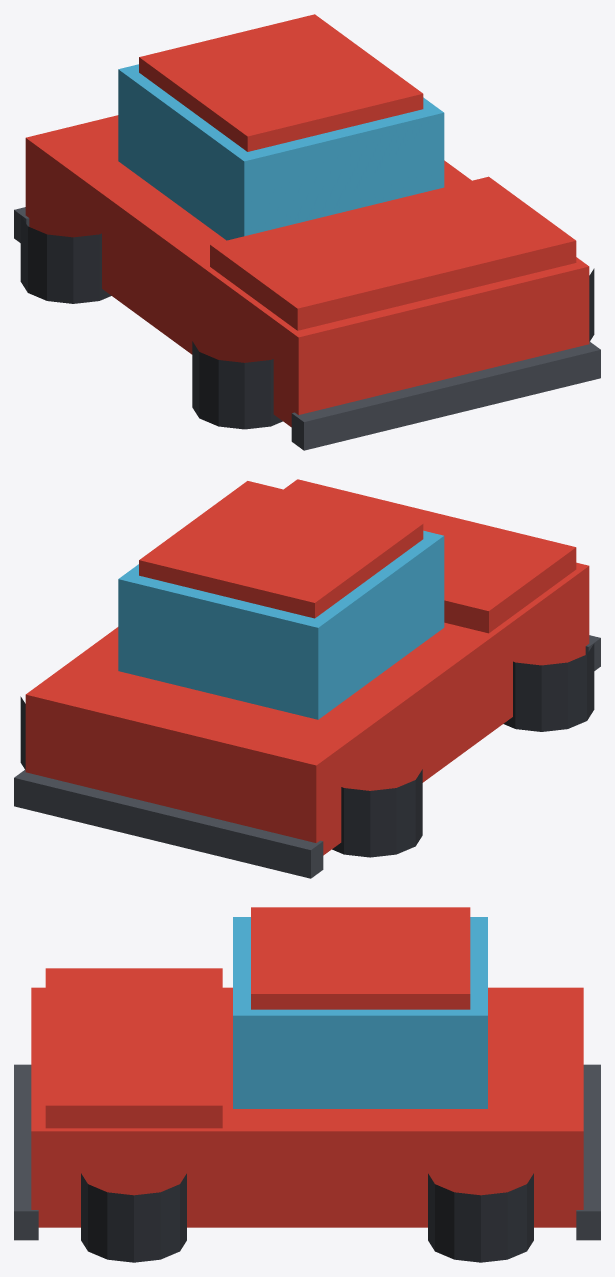
Rendered from car.glb.
The picture shows the model from 3 angles, top to bottom: view 1: azimuth 30°, elevation 25°; view 2: azimuth 150°, elevation 25°; view 3: azimuth 270°, elevation 25°; orthographic projection.
Parts seen in each view (by area): view 1: Body, Hood, Cabin, Roof, Front bumper, Wheel -1 -1, Wheel -1 1; view 2: Body, Cabin, Roof, Hood, Rear bumper, Wheel -1 1, Wheel -1 -1; view 3: Body, Cabin, Hood, Roof, Wheel 1 -1, Wheel 1 1, Front bumper, Rear bumper.
Boxes of the visible parts, x1=… form: Body: x1=25, y1=115, x2=589, y2=427; Hood: x1=210, y1=176, x2=576, y2=330; Cabin: x1=118, y1=64, x2=444, y2=240; Roof: x1=139, y1=14, x2=423, y2=151; Front bumper: x1=291, y1=341, x2=600, y2=450; Wheel -1 -1: x1=20, y1=215, x2=111, y2=303; Wheel -1 1: x1=192, y1=341, x2=282, y2=429; Body: x1=25, y1=562, x2=589, y2=855; Cabin: x1=118, y1=530, x2=444, y2=719; Roof: x1=139, y1=481, x2=423, y2=618; Hood: x1=284, y1=479, x2=576, y2=633; Rear bumper: x1=14, y1=769, x2=323, y2=878; Wheel -1 1: x1=503, y1=643, x2=594, y2=731; Wheel -1 -1: x1=332, y1=769, x2=422, y2=857; Body: x1=31, y1=987, x2=583, y2=1227; Cabin: x1=233, y1=917, x2=487, y2=1108; Hood: x1=45, y1=968, x2=222, y2=1128; Roof: x1=251, y1=907, x2=470, y2=1009; Wheel 1 -1: x1=428, y1=1173, x2=533, y2=1262; Wheel 1 1: x1=81, y1=1173, x2=186, y2=1262; Front bumper: x1=14, y1=1064, x2=38, y2=1240; Rear bumper: x1=576, y1=1064, x2=600, y2=1240.
Bounding box in the file's own units: 0.64 × 0.337 × 0.829.
